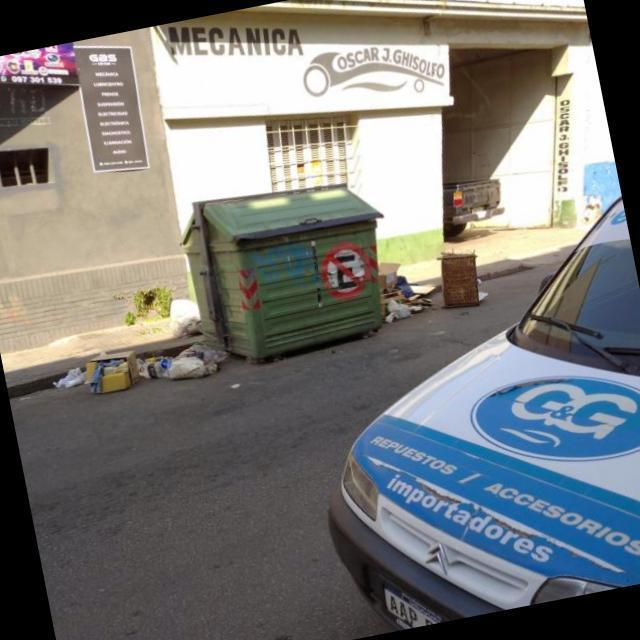garbage: (46, 324, 236, 414), (366, 246, 448, 344), (428, 235, 498, 323)
